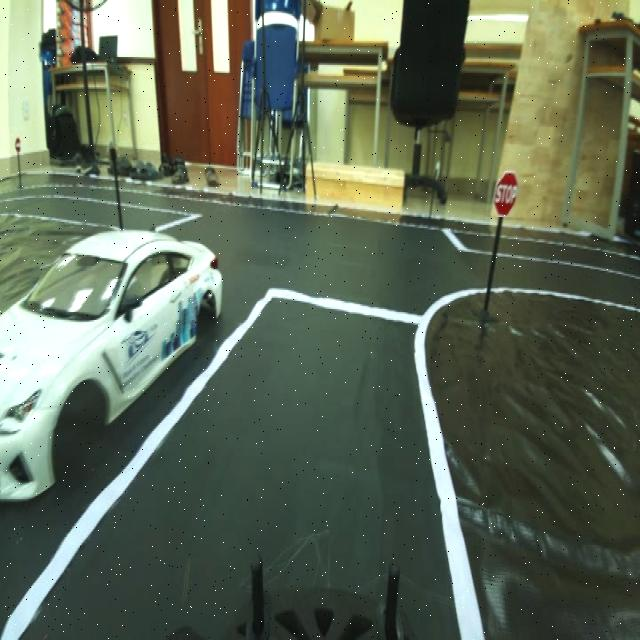car: (0, 218, 224, 460)
stop: (486, 164, 524, 224)
